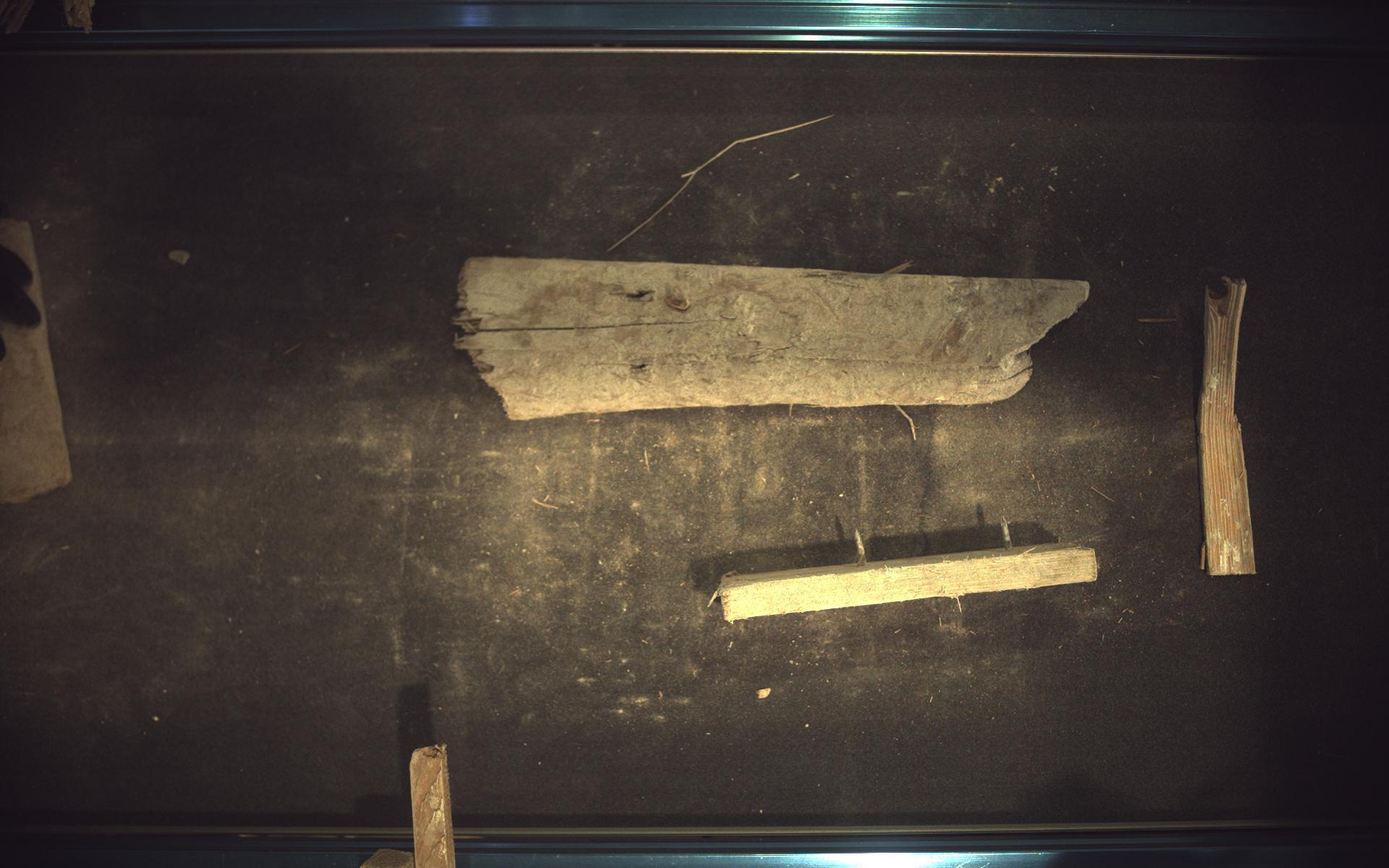wood: (456, 258, 1091, 420), (721, 545, 1100, 622)
